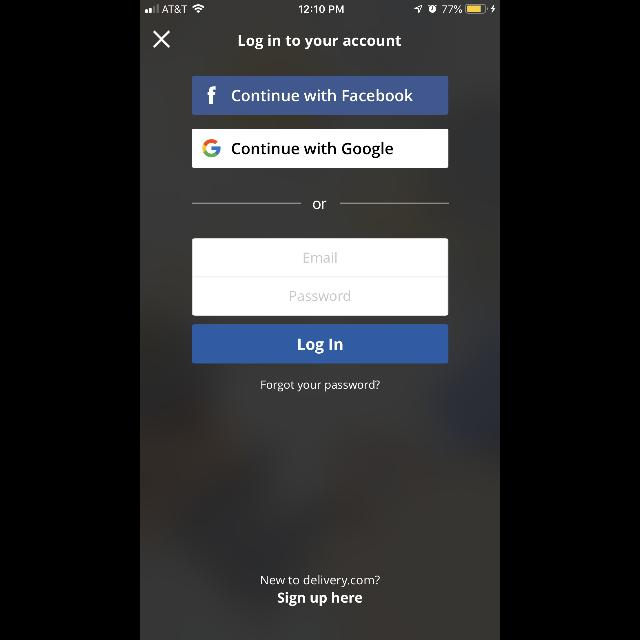icon: (154, 30, 170, 48)
input: (192, 276, 448, 316), (192, 238, 448, 278)
text: (239, 34, 401, 50), (260, 575, 380, 587), (262, 380, 381, 392), (278, 592, 362, 606), (290, 290, 350, 302), (304, 252, 336, 264), (314, 201, 326, 209)
textbutton: (192, 324, 448, 364), (192, 130, 448, 168), (192, 76, 448, 114)
uppertaskbar: (140, 0, 500, 14)
